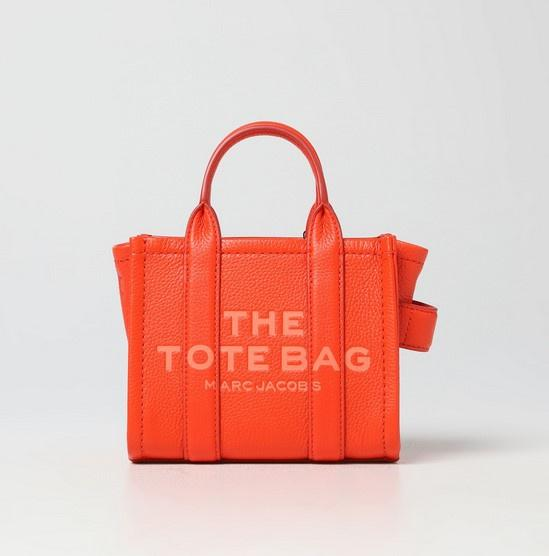MARC-JACOBS: (204, 379, 321, 391)
